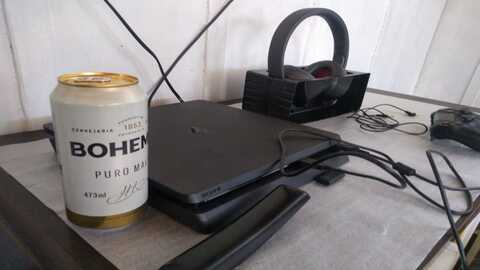bohemia: (45, 76, 154, 231)
